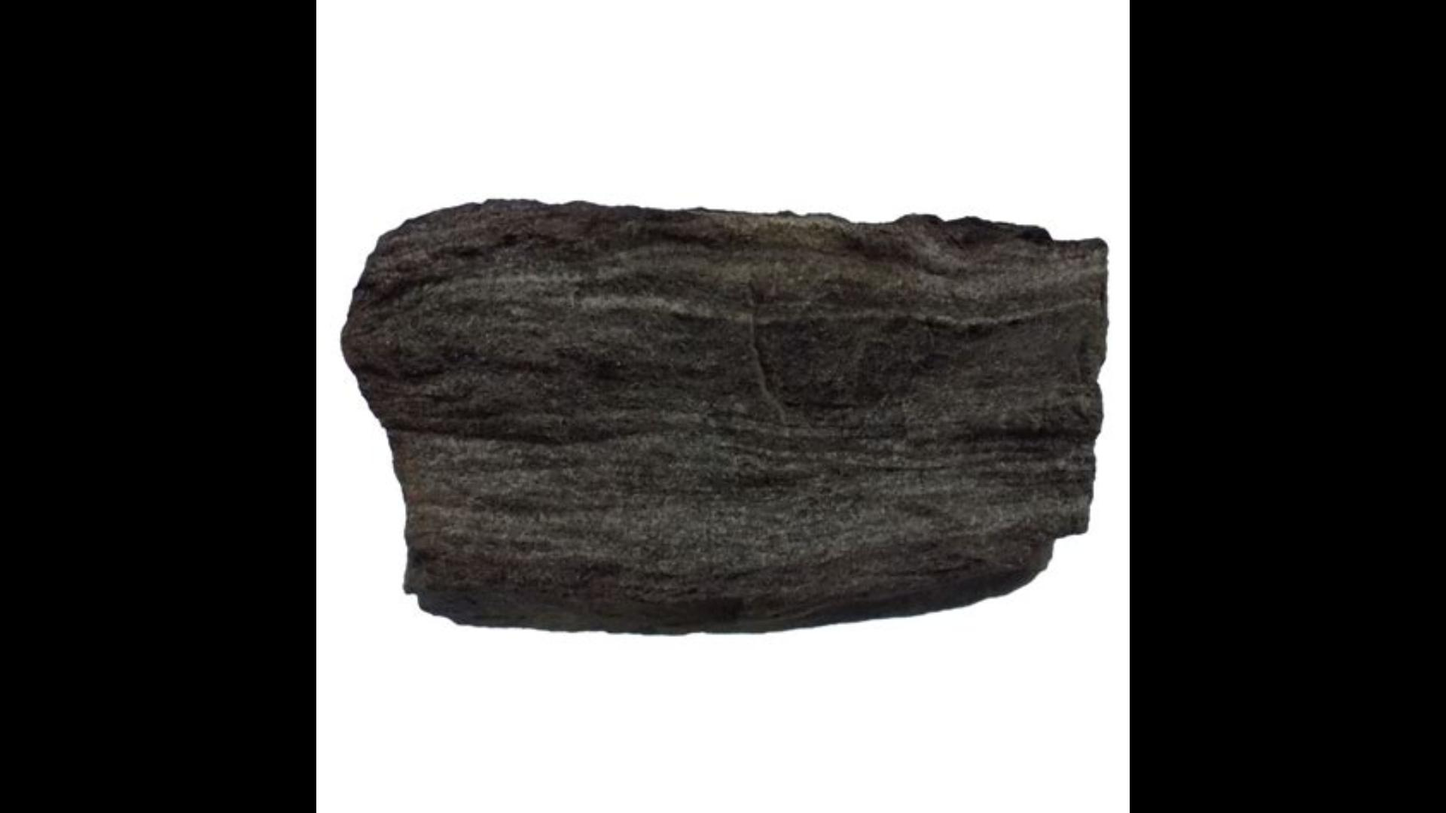rock: (344, 201, 1099, 631)
